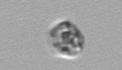plankton: (42, 17, 89, 61)
